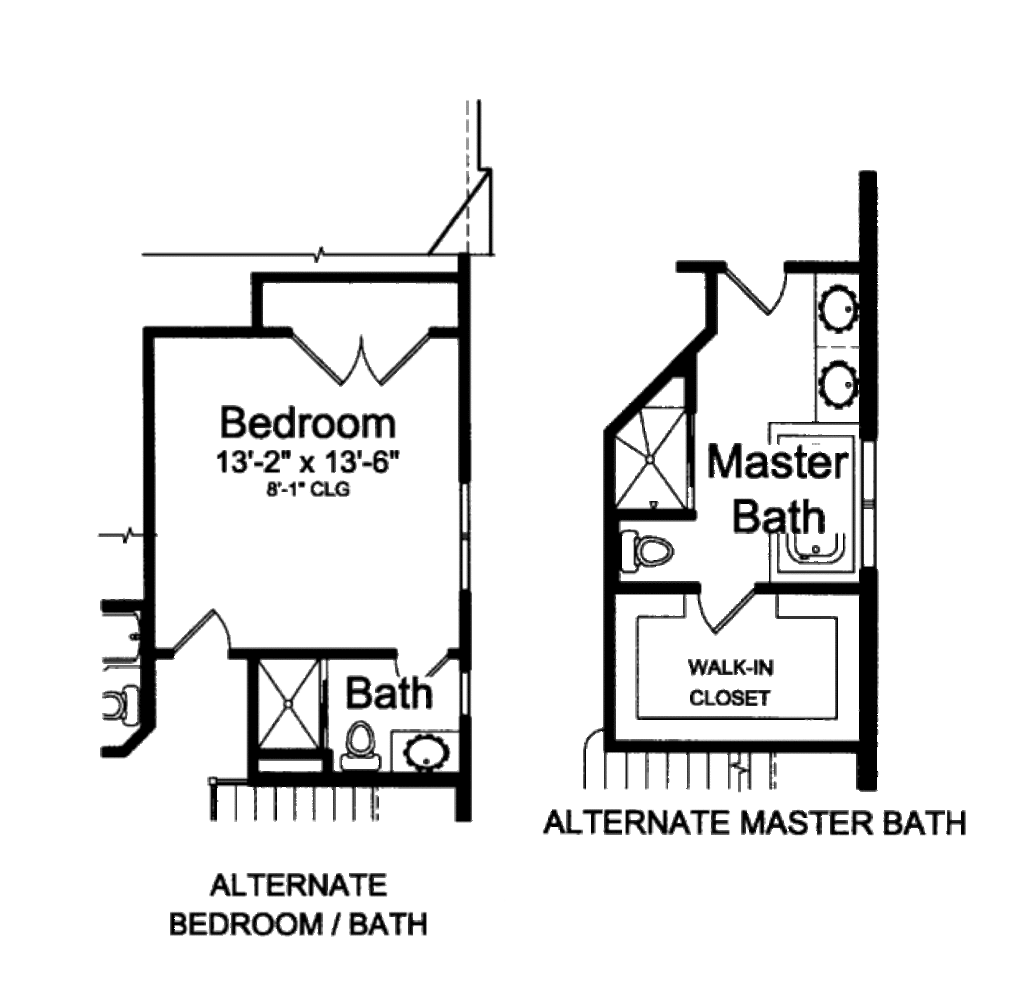door: (288, 324, 438, 400), (690, 571, 772, 651), (159, 599, 248, 657), (723, 251, 794, 321)
large_sink: (614, 517, 690, 577), (324, 715, 382, 765)
small_sink: (806, 268, 864, 418), (390, 721, 454, 768)
